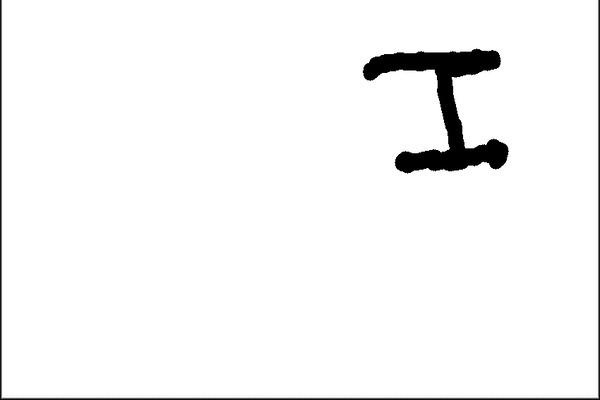i: (366, 36, 518, 178)
